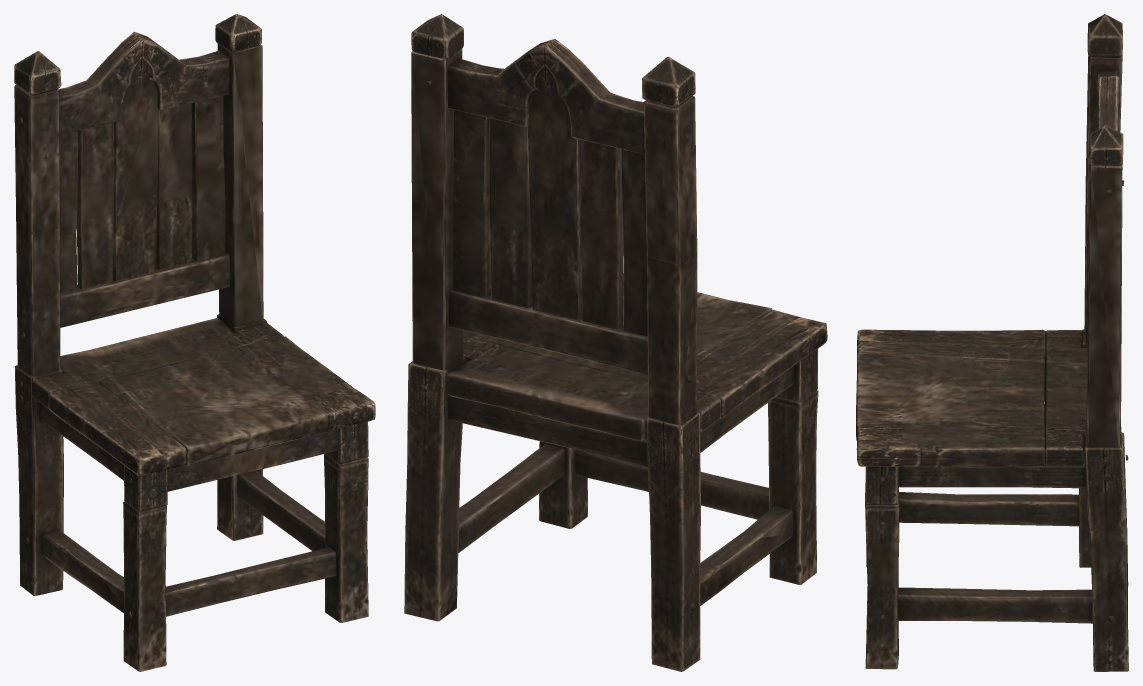
File: d_chair.glb
3 renders of one model, left to right at view 1: azimuth 30°, elevation 25°; view 2: azimuth 150°, elevation 25°; view 3: azimuth 270°, elevation 25°, orthographic. The views are drawn at different scales.
Visible parts, largest first — view 1: d_chair; view 2: d_chair; view 3: d_chair.
Part boxes in pixels (x1,y1,x2,y2): d_chair: (14,14,375,671); d_chair: (404,14,827,671); d_chair: (856,14,1128,671).
Bounding box in the file's own units: 0.5832 × 1.23 × 0.5551.
1 material, 1 textured.
